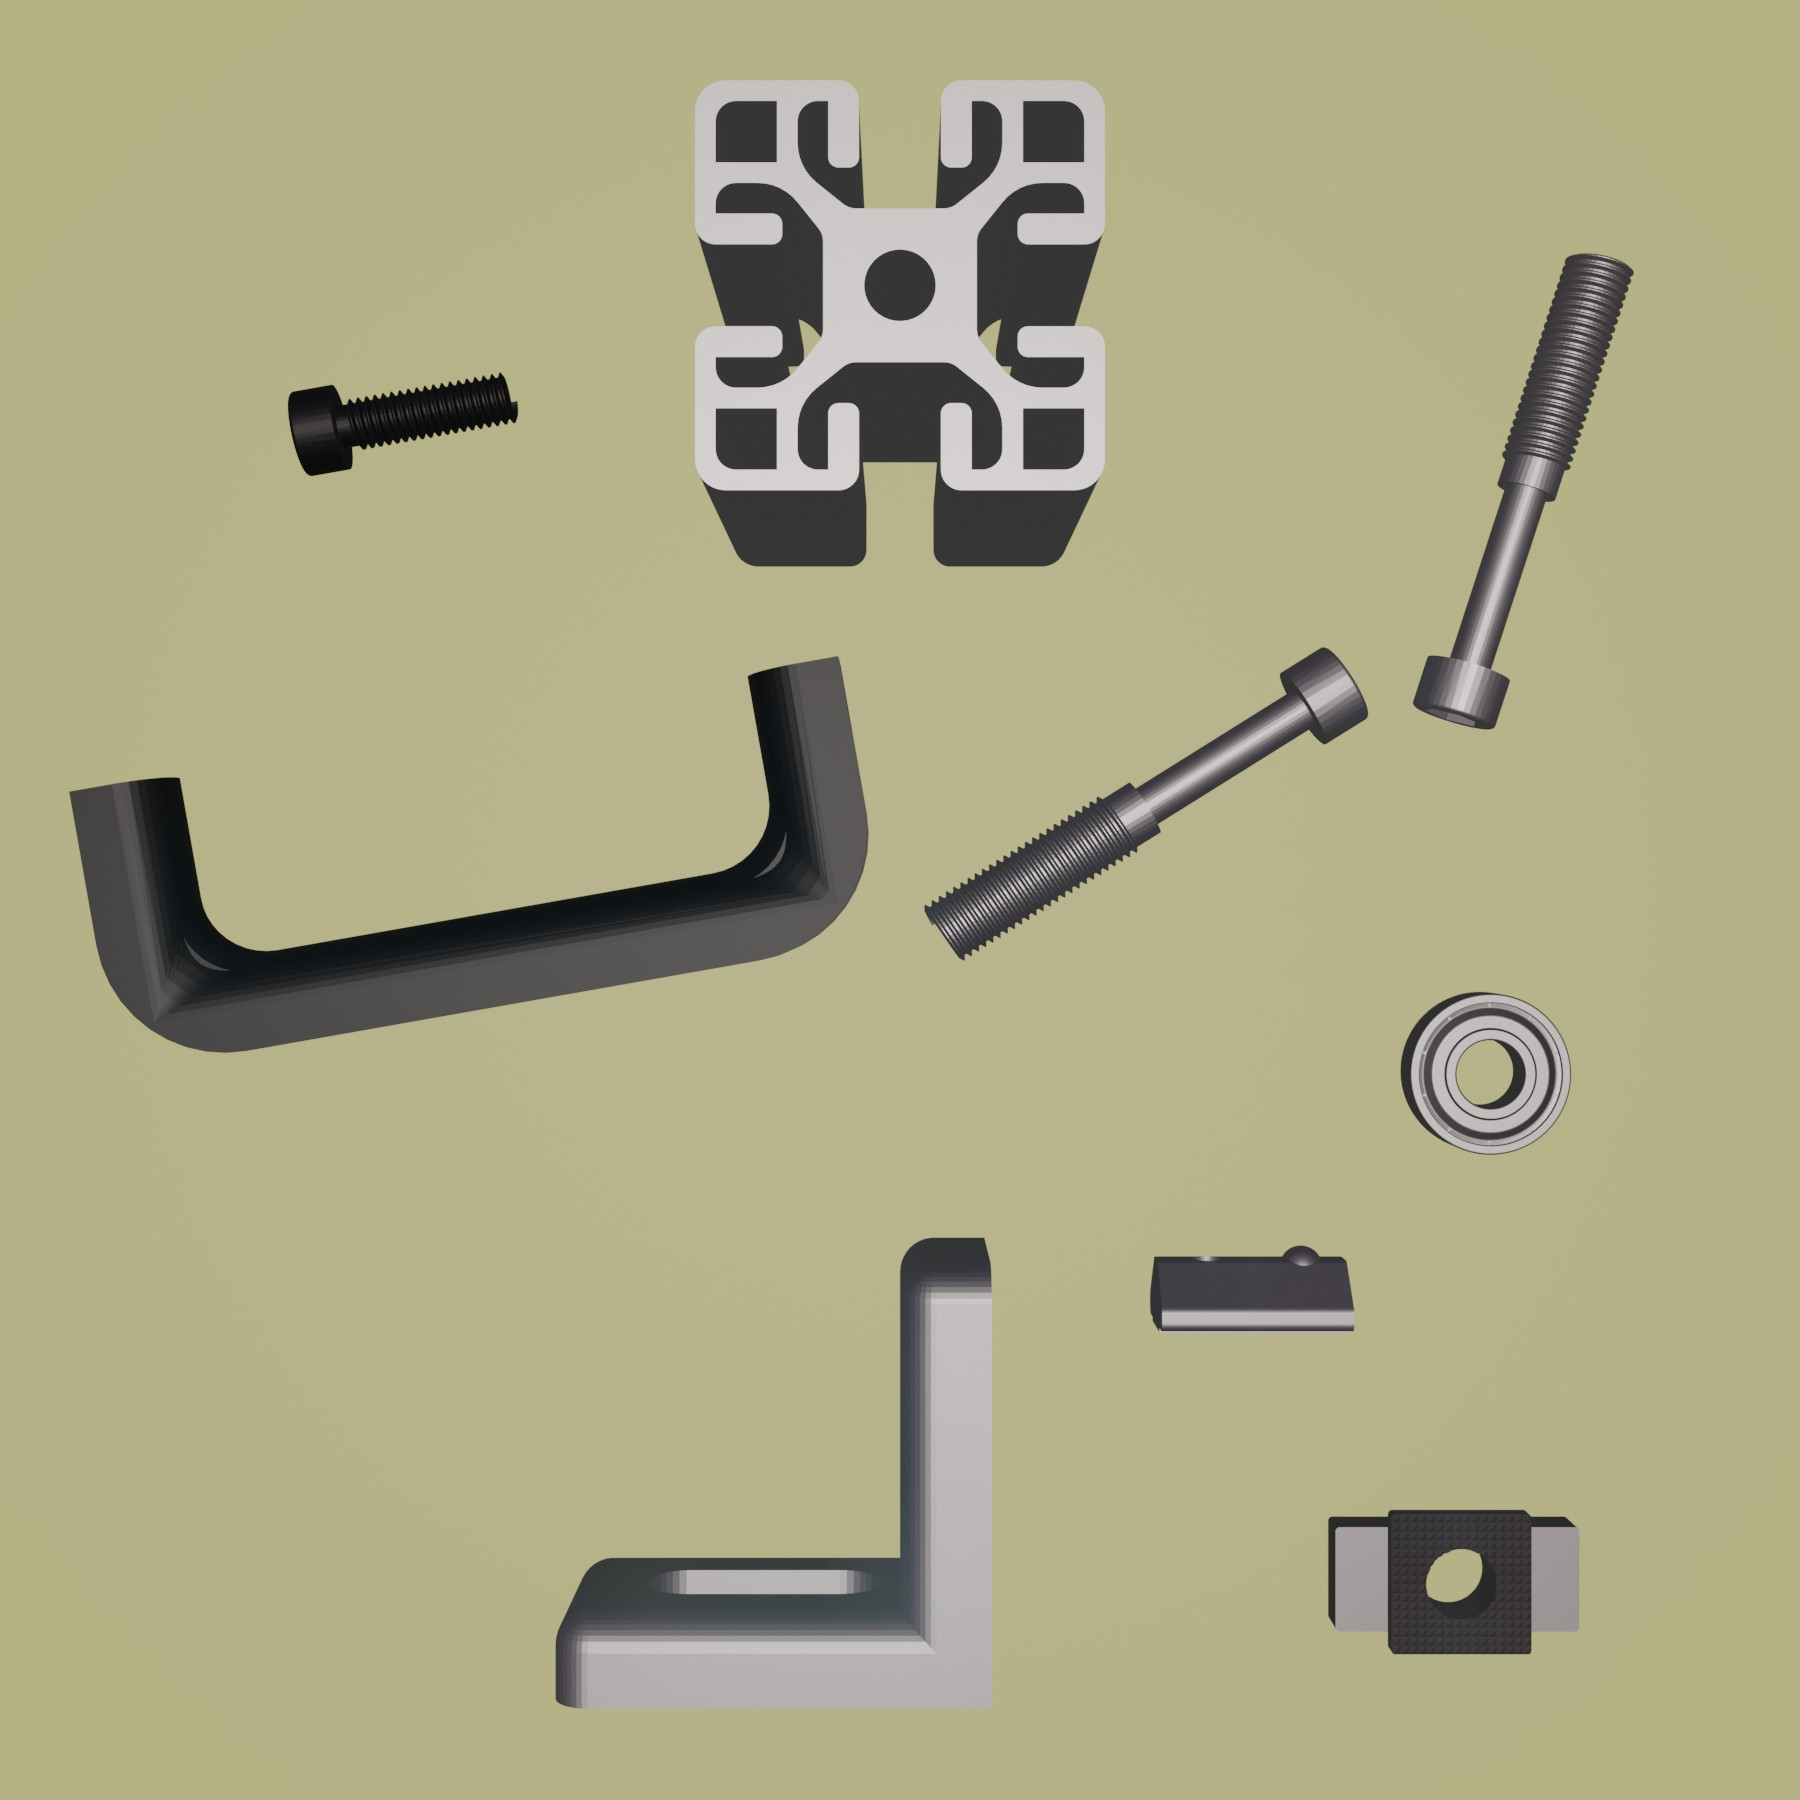Aluminium Extension: (689, 73, 1111, 570)
Ball Bearing: (1396, 989, 1574, 1157)
Multiwinkel: (551, 1230, 997, 1716)
Pull Handle: (64, 654, 870, 1053)
Shoulder Socket Head Cap Screw: (921, 643, 1371, 964), (1409, 251, 1637, 732)
Socket Head Cap Screw: (287, 369, 519, 478)
T Nut Square: (1320, 1503, 1582, 1658)
T Spring Nut: (1147, 1241, 1358, 1338)
